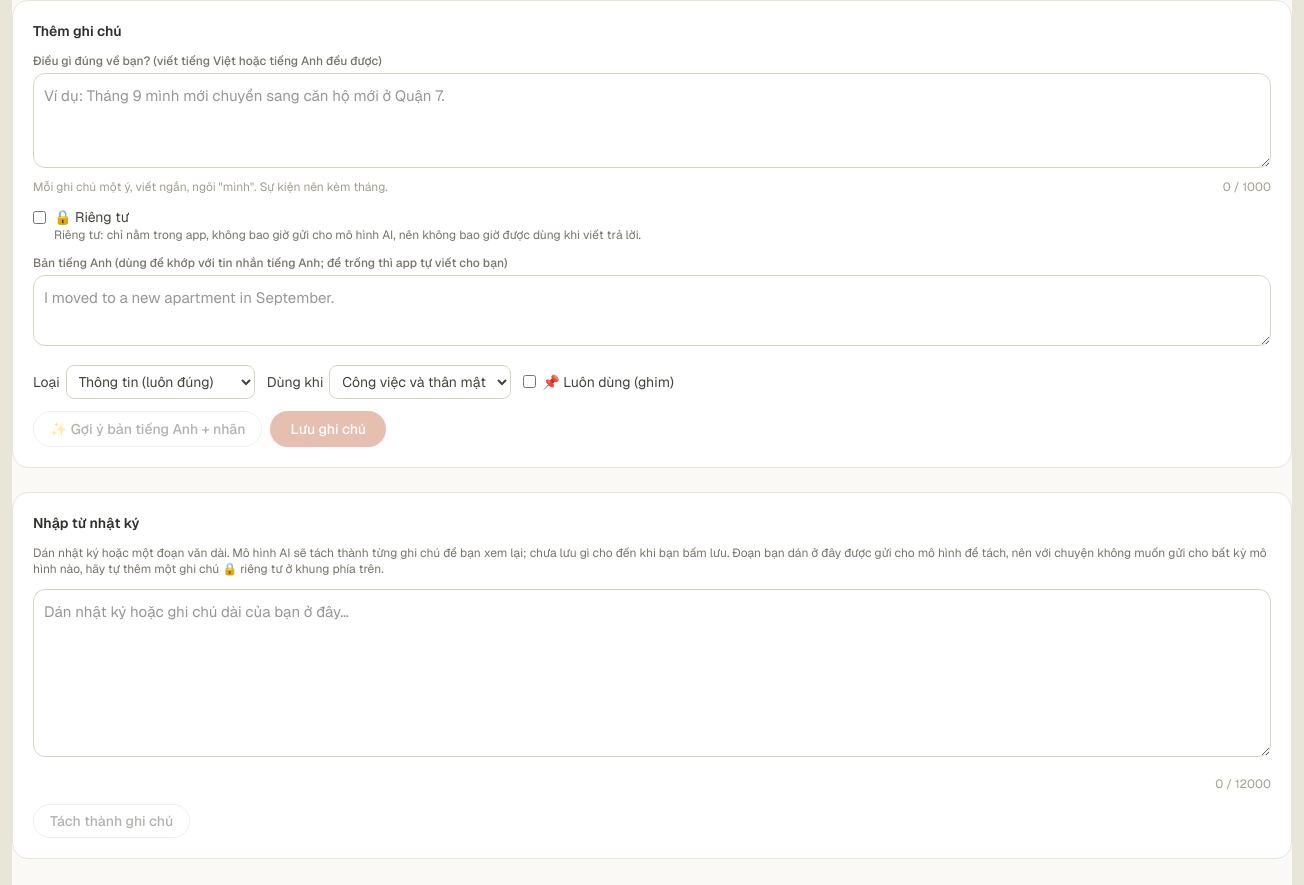
Test: adding a note › needs some text, and keeps the writer's text when a suggestion fails
Expected: the button "Lưu ghi chú" is disabled, [270,411,386,447]
Expected: the button "✨ Gợi ý bản tiếng Anh + nhãn" is disabled, [33,411,262,447]
Type "Giữ lại nhé." into the text box labelled "Điều gì đúng về bạn" at [652, 121], box [33,73,1271,168]
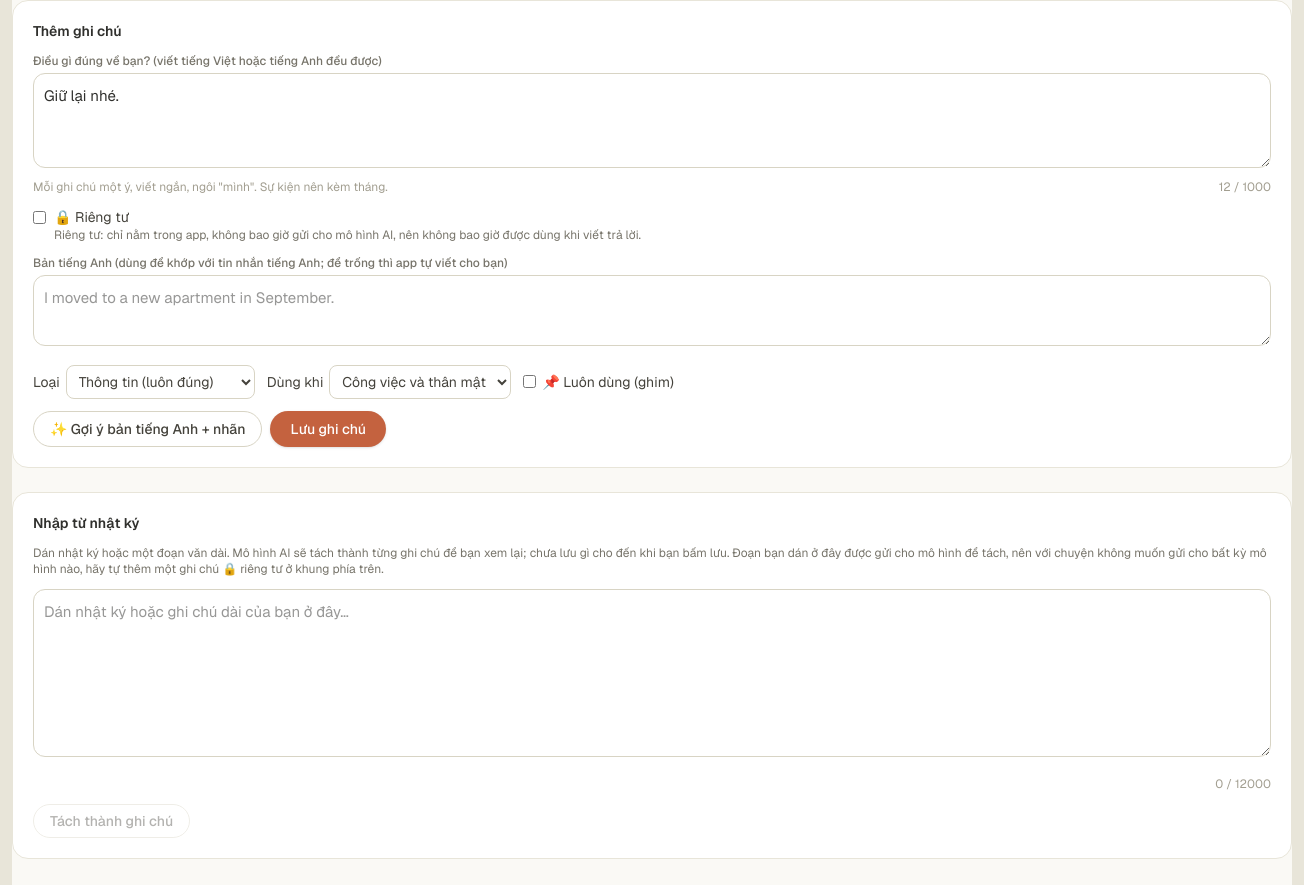
Click the button "✨ Gợi ý bản tiếng Anh + nhãn" at [148, 429], box [33,411,262,447]
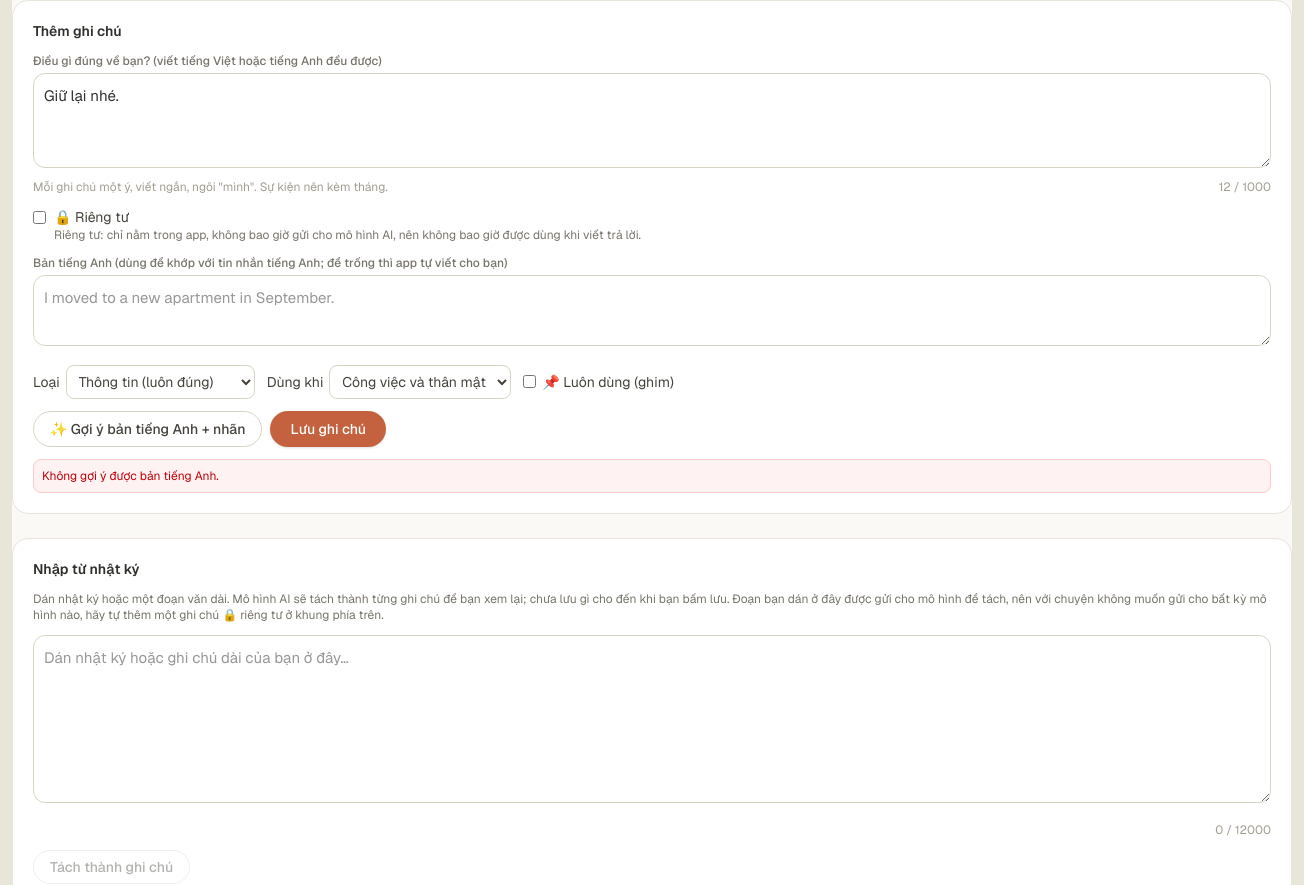
Now the message reads "Không gợi ý được bản tiếng Anh.", box [42,468,219,484]
